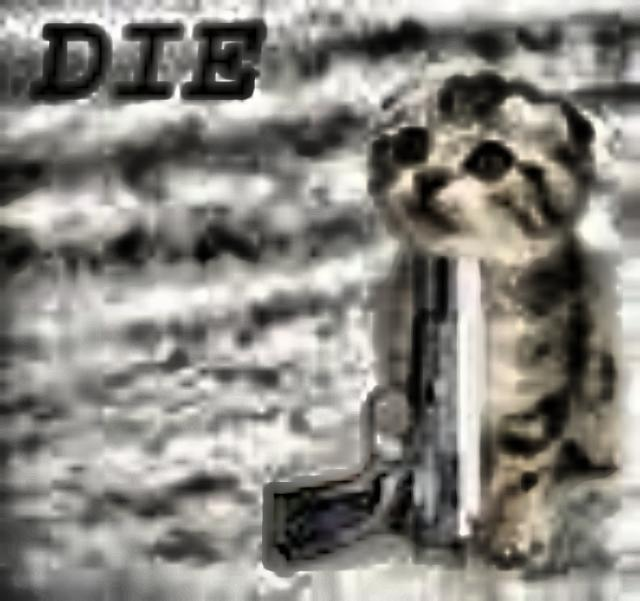pistol: (252, 240, 484, 562)
